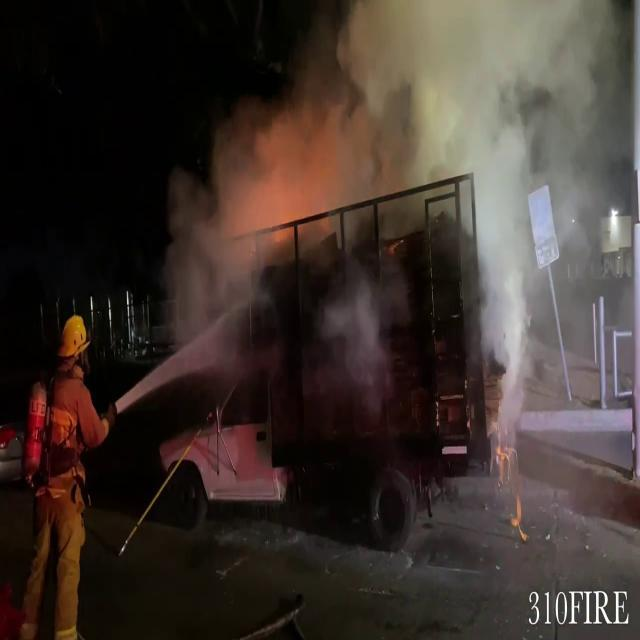Smoke: (160, 1, 632, 387)
